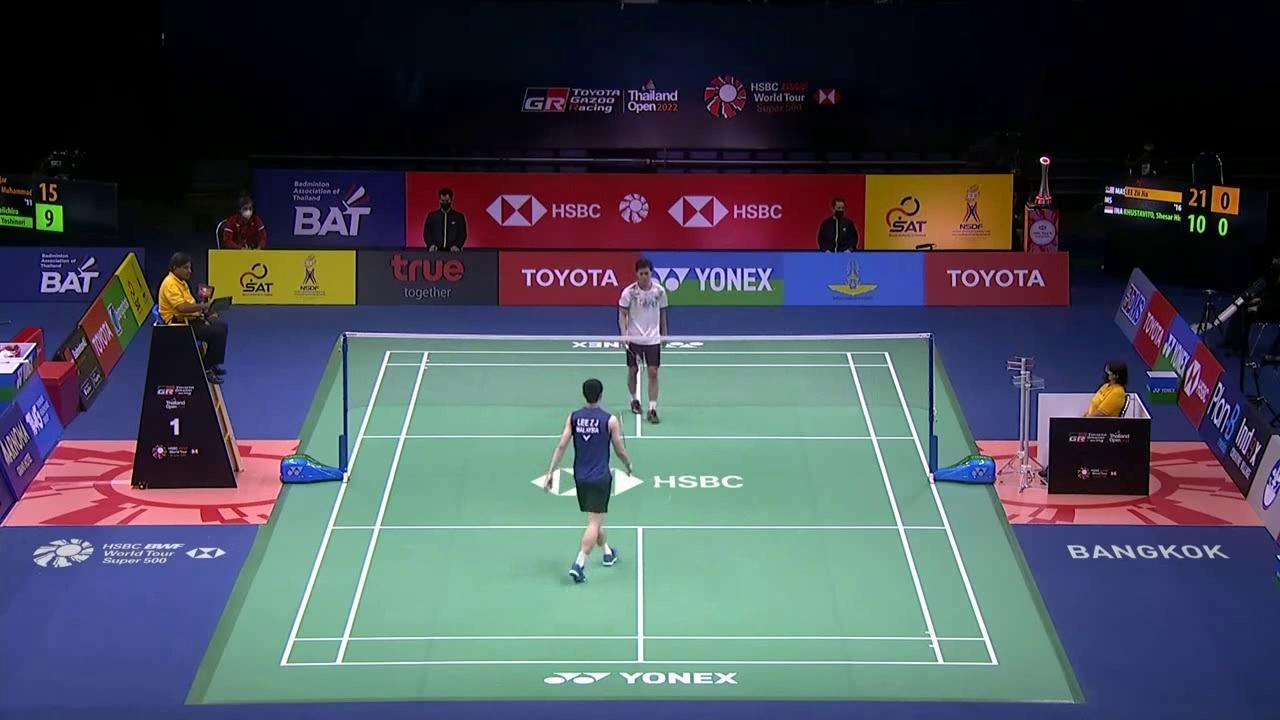racket: (616, 410, 631, 475), (620, 339, 644, 372)
